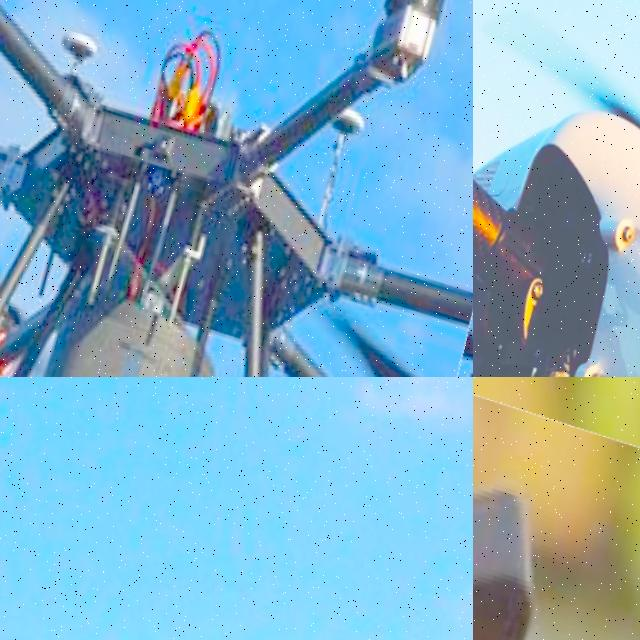drone: (0, 0, 473, 377), (473, 0, 640, 377), (473, 377, 640, 640)
